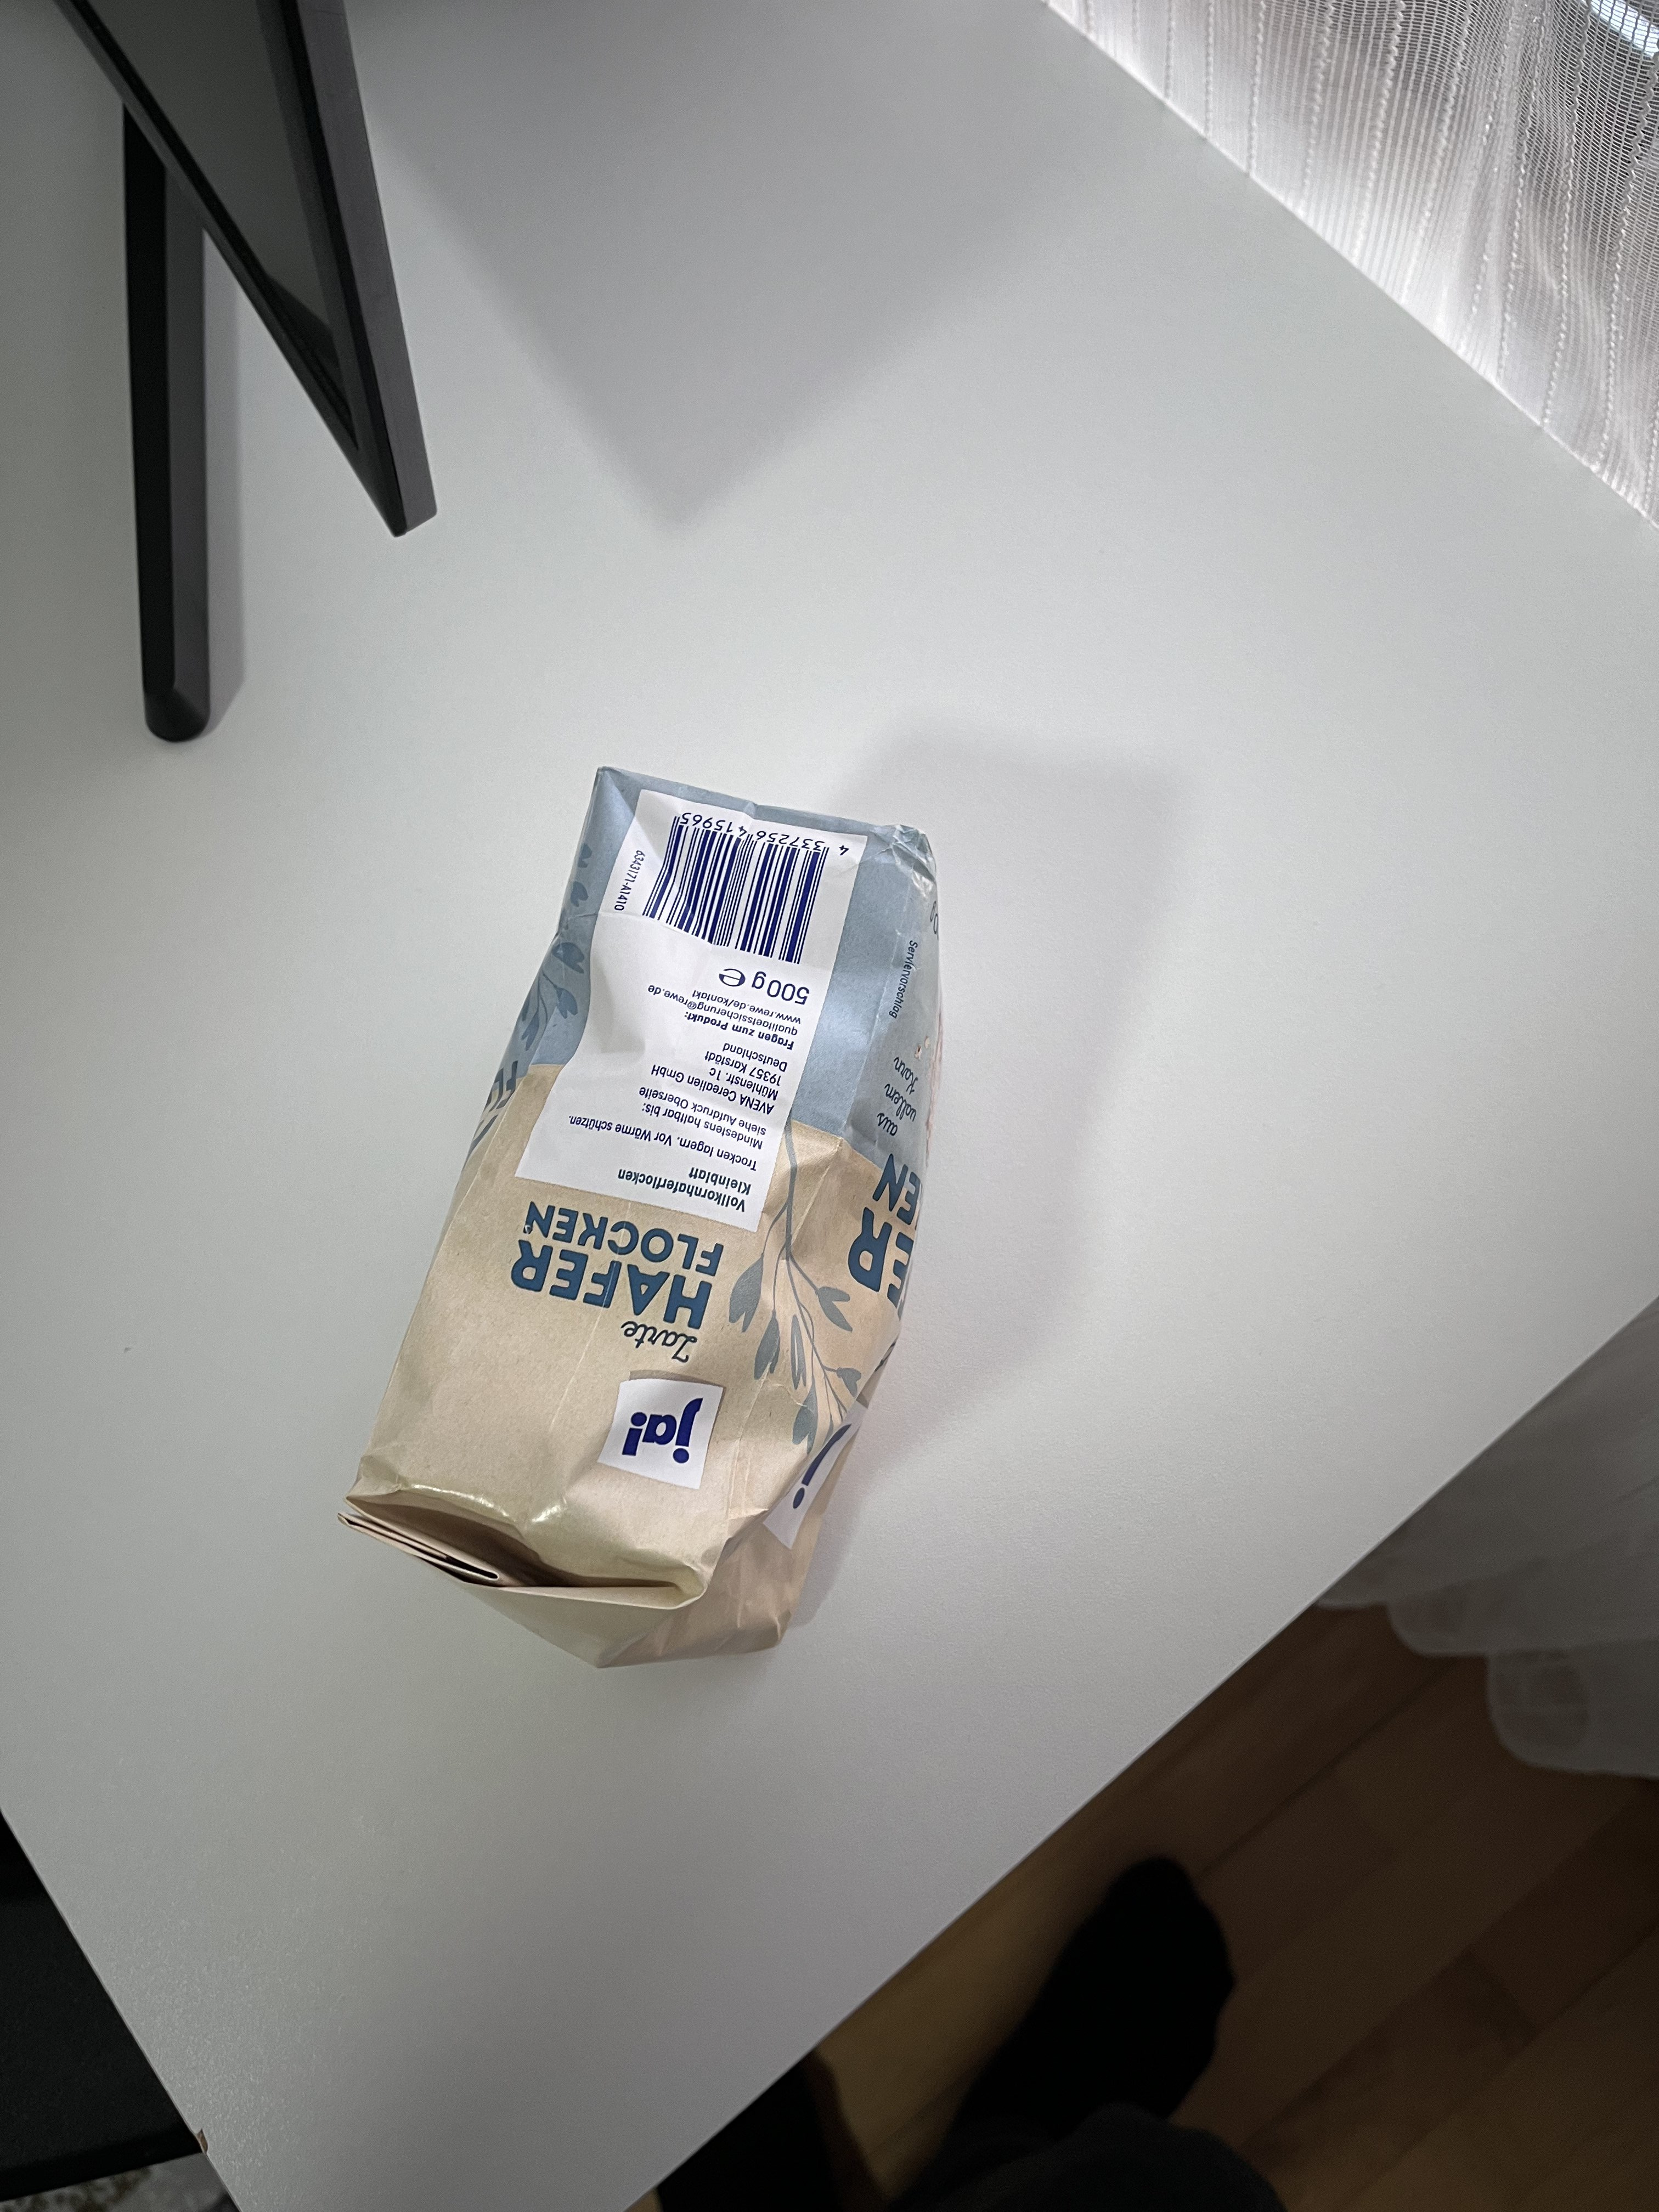haferflocken_ja: (342, 768, 946, 1674)
